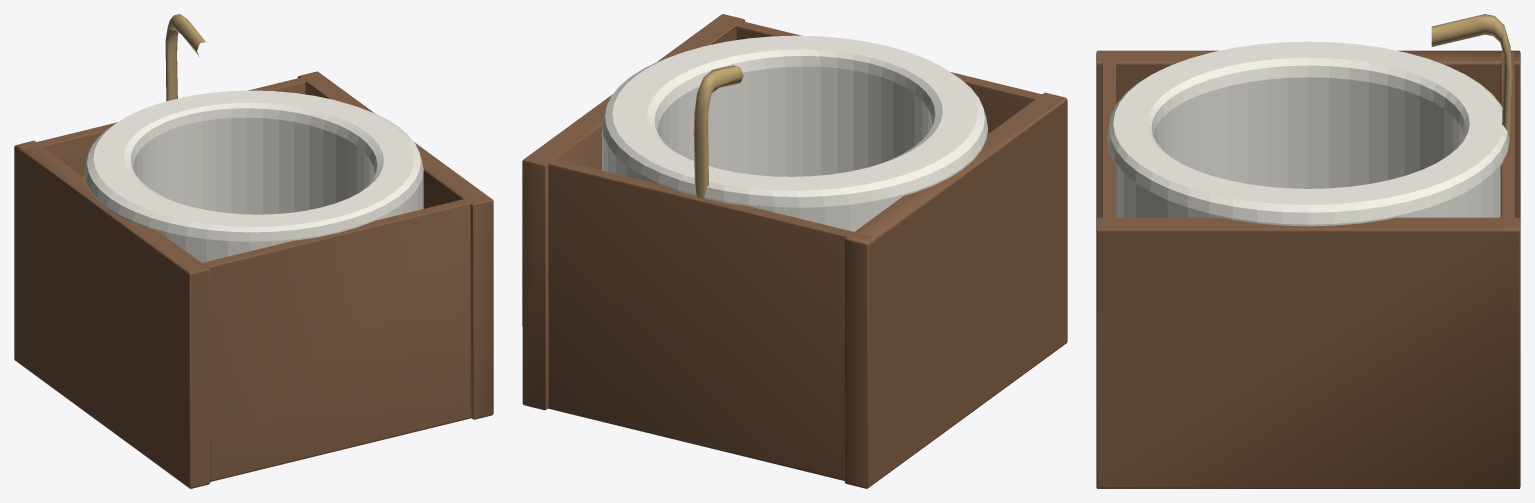
File: bath-10-1.lod.glb
3 renders of one model, left to right at view 1: azimuth 30°, elevation 25°; view 2: azimuth 150°, elevation 25°; view 3: azimuth 270°, elevation 25°, orthographic. The views are drawn at different scales.
Visible parts, largest first — view 1: bath-apron, part (×2); view 2: bath-apron, part (×2); view 3: bath-apron, part (×2).
Part boxes in pixels (x1=…): bath-apron: x1=14, y1=71, x2=493, y2=488; part (×2): x1=84, y1=14, x2=423, y2=262; bath-apron: x1=522, y1=14, x2=1067, y2=488; part (×2): x1=602, y1=35, x2=987, y2=231; bath-apron: x1=1096, y1=50, x2=1520, y2=488; part (×2): x1=1107, y1=14, x2=1512, y2=226.
Size of the model in its own units: 1 by 1 by 1.
